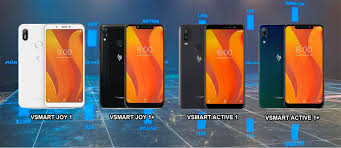vsmart: (95, 19, 168, 112), (15, 18, 88, 111), (176, 18, 249, 111), (255, 20, 328, 113)
